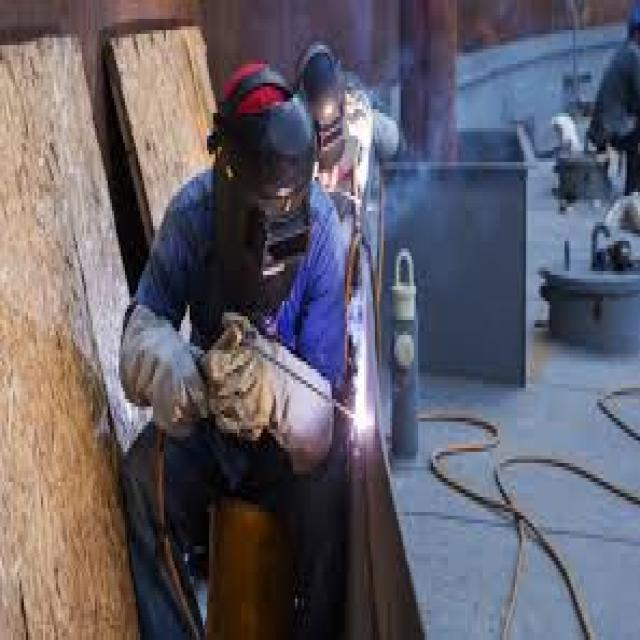welding: (350, 397, 374, 441)
